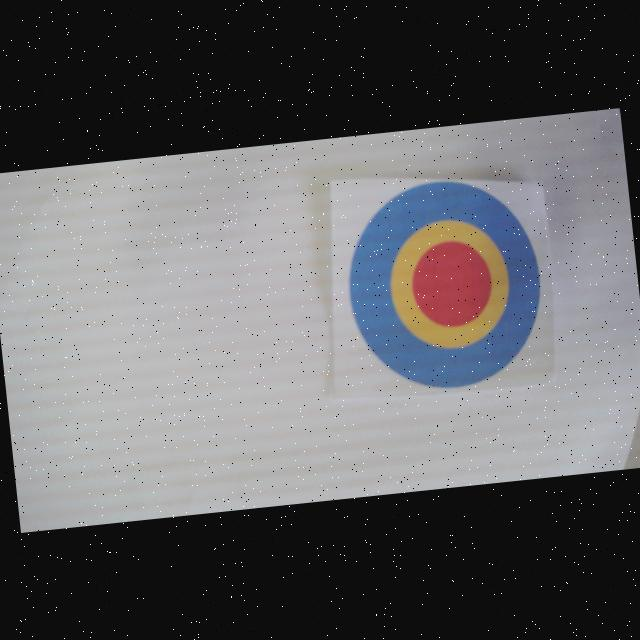COGNITIVE: (339, 171, 551, 398)
